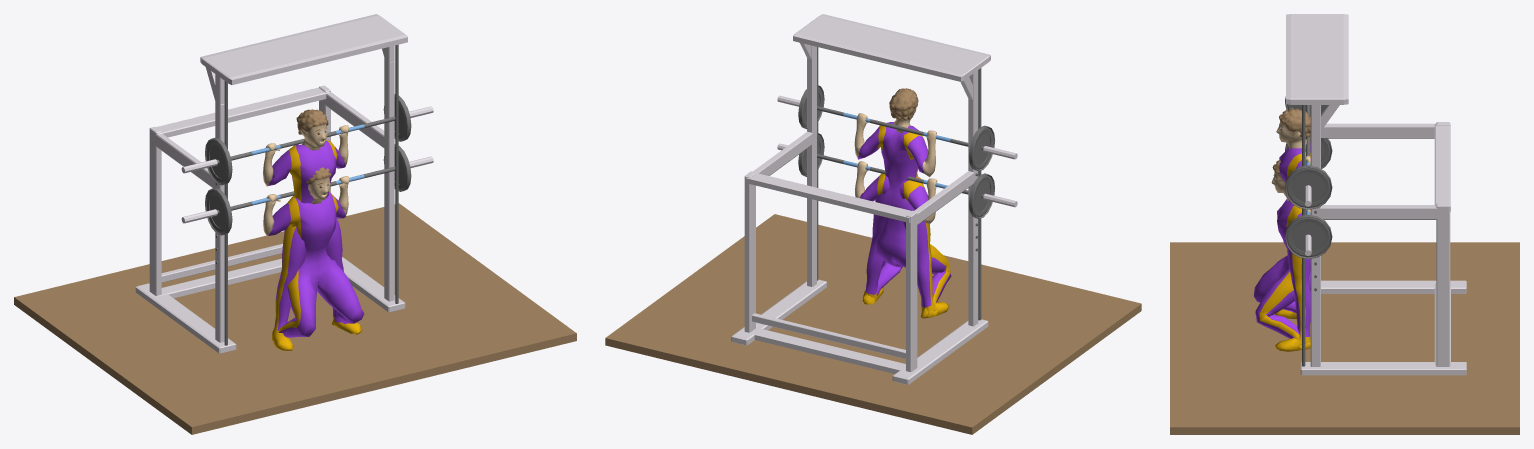
File: weightlifter.dae
3 views of the same model, side by side, from view 1: azimuth 30°, elevation 25°; view 2: azimuth 150°, elevation 25°; view 3: azimuth 270°, elevation 25° (orthographic). The views are drawn at different scales.
Parts seen in each view (by area): view 1: pCube20 (×2), polySurface53 (×2), pCube6 (×2), pCube4 (×2), pCube17 (×2), pCube5 (×2), pCube16 (×2), pCylinder6 (×2), pCylinder7 (×2), pCube14 (×2), pCube18 (×2), polySurface60 (×2) (+7 smaller); view 2: pCube20 (×2), polySurface53 (×2), pCube6 (×2), pCube4 (×2), pCube17 (×2), pCube16 (×2), pCube5 (×2), pCube15 (×2), pCube14 (×2), pCylinder6 (×2), pCube18, pCube13 (×2) (+6 smaller); view 3: pCube20 (×2), pCube6 (×2), polySurface53 (×2), pCylinder8 (×2), pCube15 (×2), pCube4 (×2), pCube13 (×2), pCube12 (×2), pCube11, pCube14 (×2), pCube17, polySurface60 (+1 smaller).
Boxes of the visible parts, x1,y1,x2,y2 form: pCube20 (×2): (14, 203, 576, 434); polySurface53 (×2): (263, 125, 364, 350); pCube6 (×2): (200, 14, 407, 85); pCube4 (×2): (384, 45, 394, 301); pCube17 (×2): (156, 87, 329, 137); pCube5 (×2): (215, 74, 224, 342); pCube16 (×2): (149, 126, 161, 295); pCylinder6 (×2): (181, 106, 433, 223); pCylinder7 (×2): (205, 137, 232, 235); pCube14 (×2): (135, 283, 236, 353); pCube18 (×2): (158, 258, 281, 298); polySurface60 (×2): (296, 109, 331, 204); pCube20 (×2): (605, 214, 1141, 434); polySurface53 (×2): (854, 113, 951, 318); pCube6 (×2): (793, 14, 990, 81); pCube4 (×2): (807, 45, 816, 286); pCube17 (×2): (746, 173, 911, 222); pCube16 (×2): (906, 210, 917, 372); pCube5 (×2): (968, 70, 978, 326); pCube15 (×2): (744, 171, 755, 332); pCube14 (×2): (892, 319, 988, 384); pCylinder6 (×2): (777, 95, 1017, 207); pCube18: (754, 327, 905, 373); pCube13 (×2): (731, 279, 826, 345); pCube20 (×2): (1170, 242, 1519, 434); pCube6 (×2): (1286, 14, 1348, 104); polySurface53 (×2): (1254, 135, 1321, 351); pCylinder8 (×2): (1285, 165, 1332, 258); pCube15 (×2): (1436, 203, 1450, 366); pCube4 (×2): (1310, 105, 1320, 366); pCube13 (×2): (1300, 362, 1466, 375); pCube12 (×2): (1321, 123, 1434, 138); pCube11: (1313, 205, 1448, 219); pCube14 (×2): (1321, 280, 1466, 293); pCube17: (1434, 123, 1450, 211); polySurface60: (1276, 108, 1310, 148).
Size of the model in its own units: 29.55 by 21.13 by 23.63.
